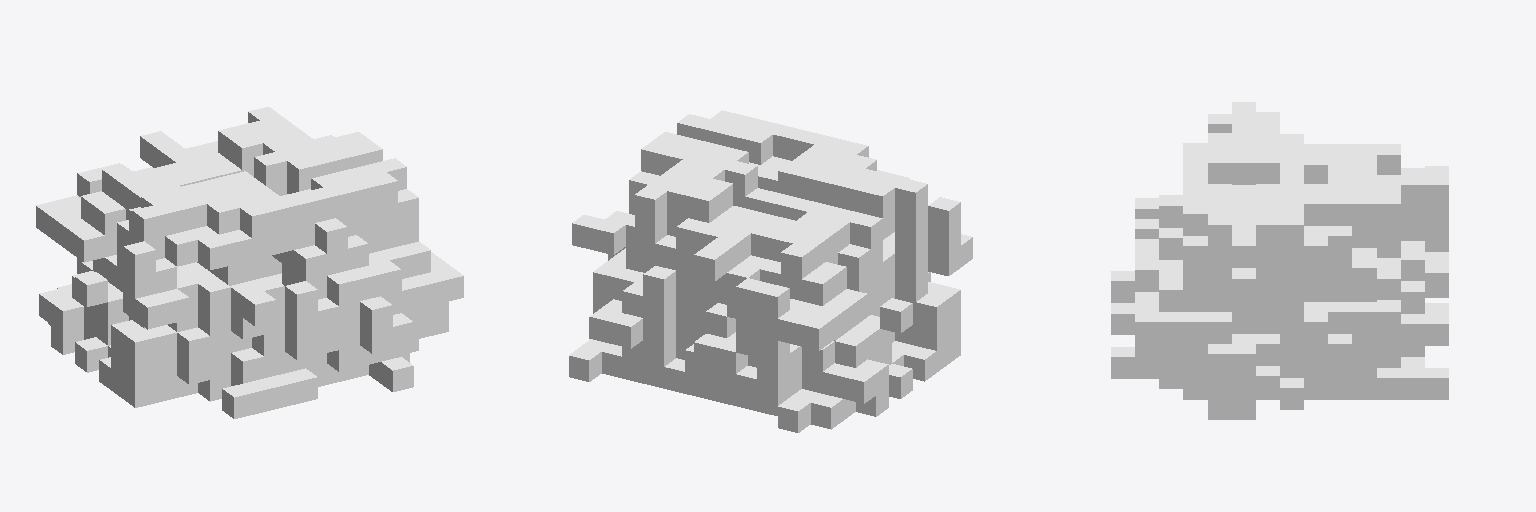
Rendered from Rock_Half.obj.
3 views of the same model, side by side, from view 1: azimuth 30°, elevation 25°; view 2: azimuth 150°, elevation 25°; view 3: azimuth 270°, elevation 25° (orthographic).
Visible parts, largest first — view 1: object 1; view 2: object 1; view 3: object 1.
Part boxes in pixels (x1,y1,x2,y2): object 1: (36,107,463,418); object 1: (569,110,972,432); object 1: (1111,102,1448,419).
Bounding box in the file's own units: 1.5 × 0.8 × 1.4.